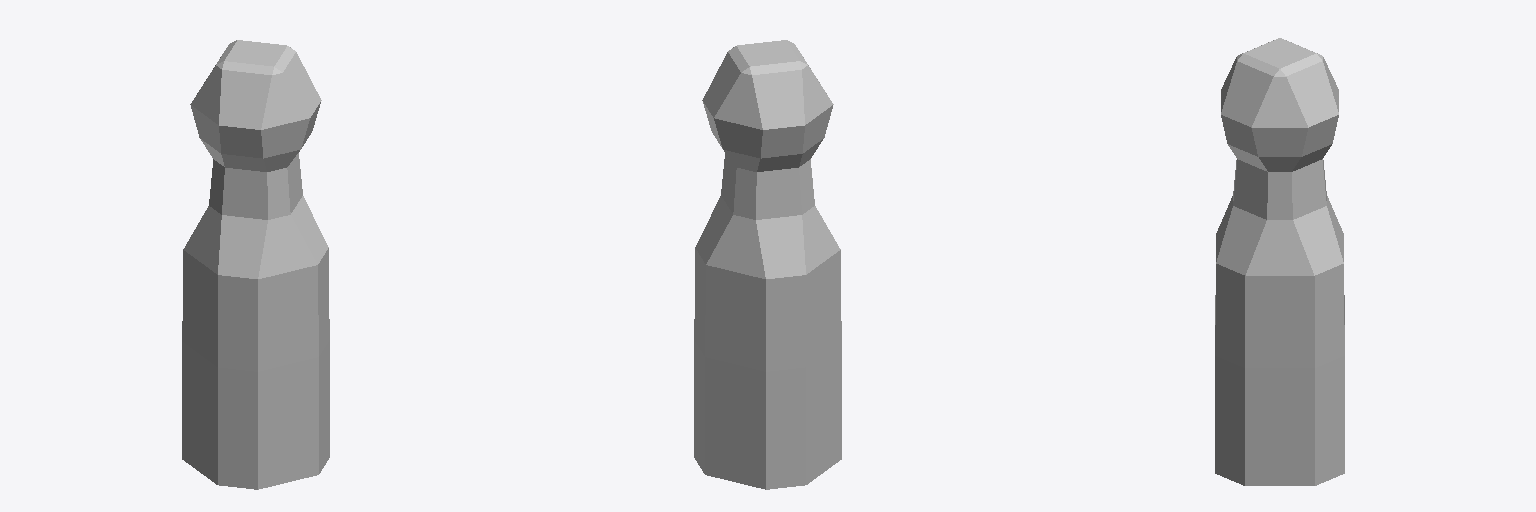
The model's file is BluePiece4.obj.
The picture shows the model from 3 angles: view 1: azimuth 30°, elevation 25°; view 2: azimuth 150°, elevation 25°; view 3: azimuth 270°, elevation 25°; orthographic projection.
Parts seen in each view (by area): view 1: Cube; view 2: Cube; view 3: Cube.
Boxes of the visible parts, <box> form: Cube: <box>182,40,329,489</box>; Cube: <box>694,40,841,489</box>; Cube: <box>1215,38,1344,485</box>.
Size of the model in its own units: 0.2053 by 0.7094 by 0.2053.